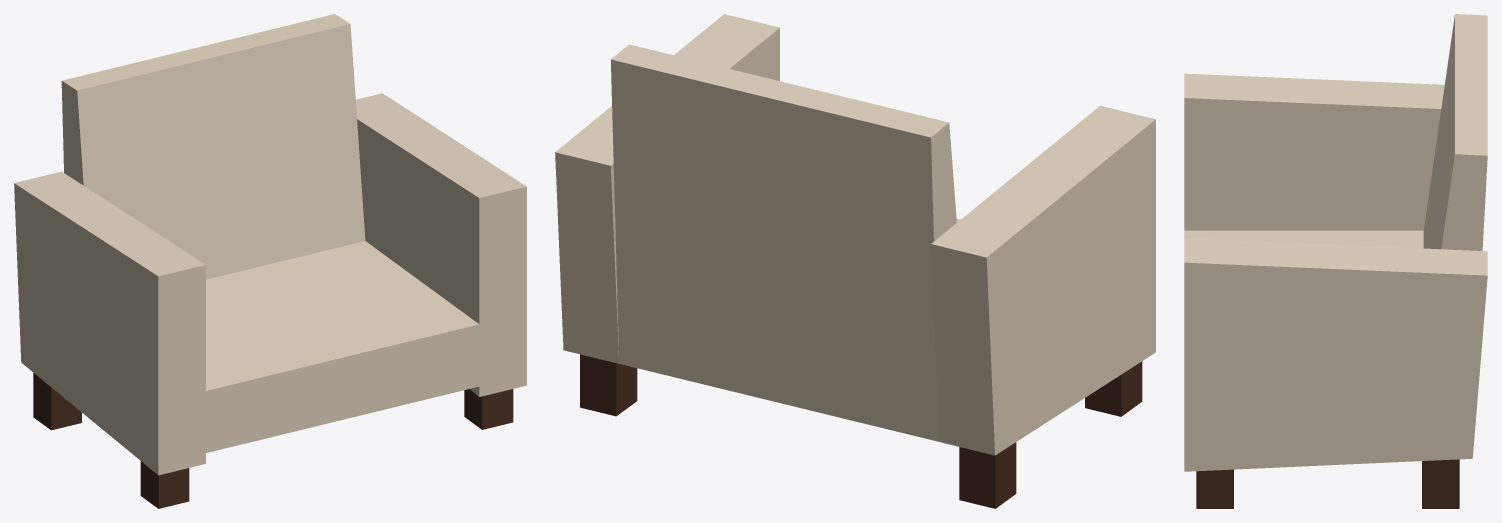
File: Couch_2A.fbx
3 views of the same model, side by side, from view 1: azimuth 30°, elevation 25°; view 2: azimuth 150°, elevation 25°; view 3: azimuth 270°, elevation 25° (orthographic). The views are drawn at different scales.
Parts seen in each view (by area): view 1: polySurface716; view 2: polySurface716; view 3: polySurface716.
Boxes of the visible parts, bbox=[...] form: polySurface716: bbox=[14, 14, 526, 508]; polySurface716: bbox=[555, 14, 1155, 508]; polySurface716: bbox=[1184, 14, 1487, 508].
Bounding box in the file's own units: 1.55 × 1.28 × 1.05.
1 material, 1 textured.
